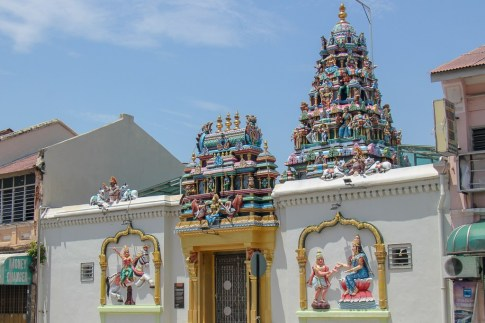Hindu Temple: (67, 20, 444, 323)
